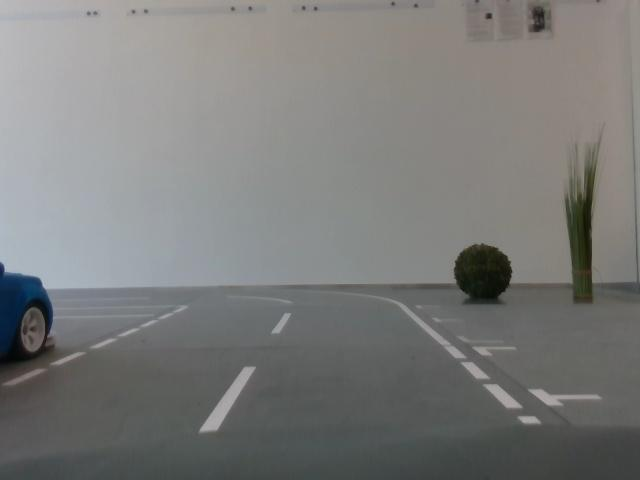car: (1, 248, 53, 364)
potted plant: (557, 135, 598, 310), (451, 244, 515, 300)
